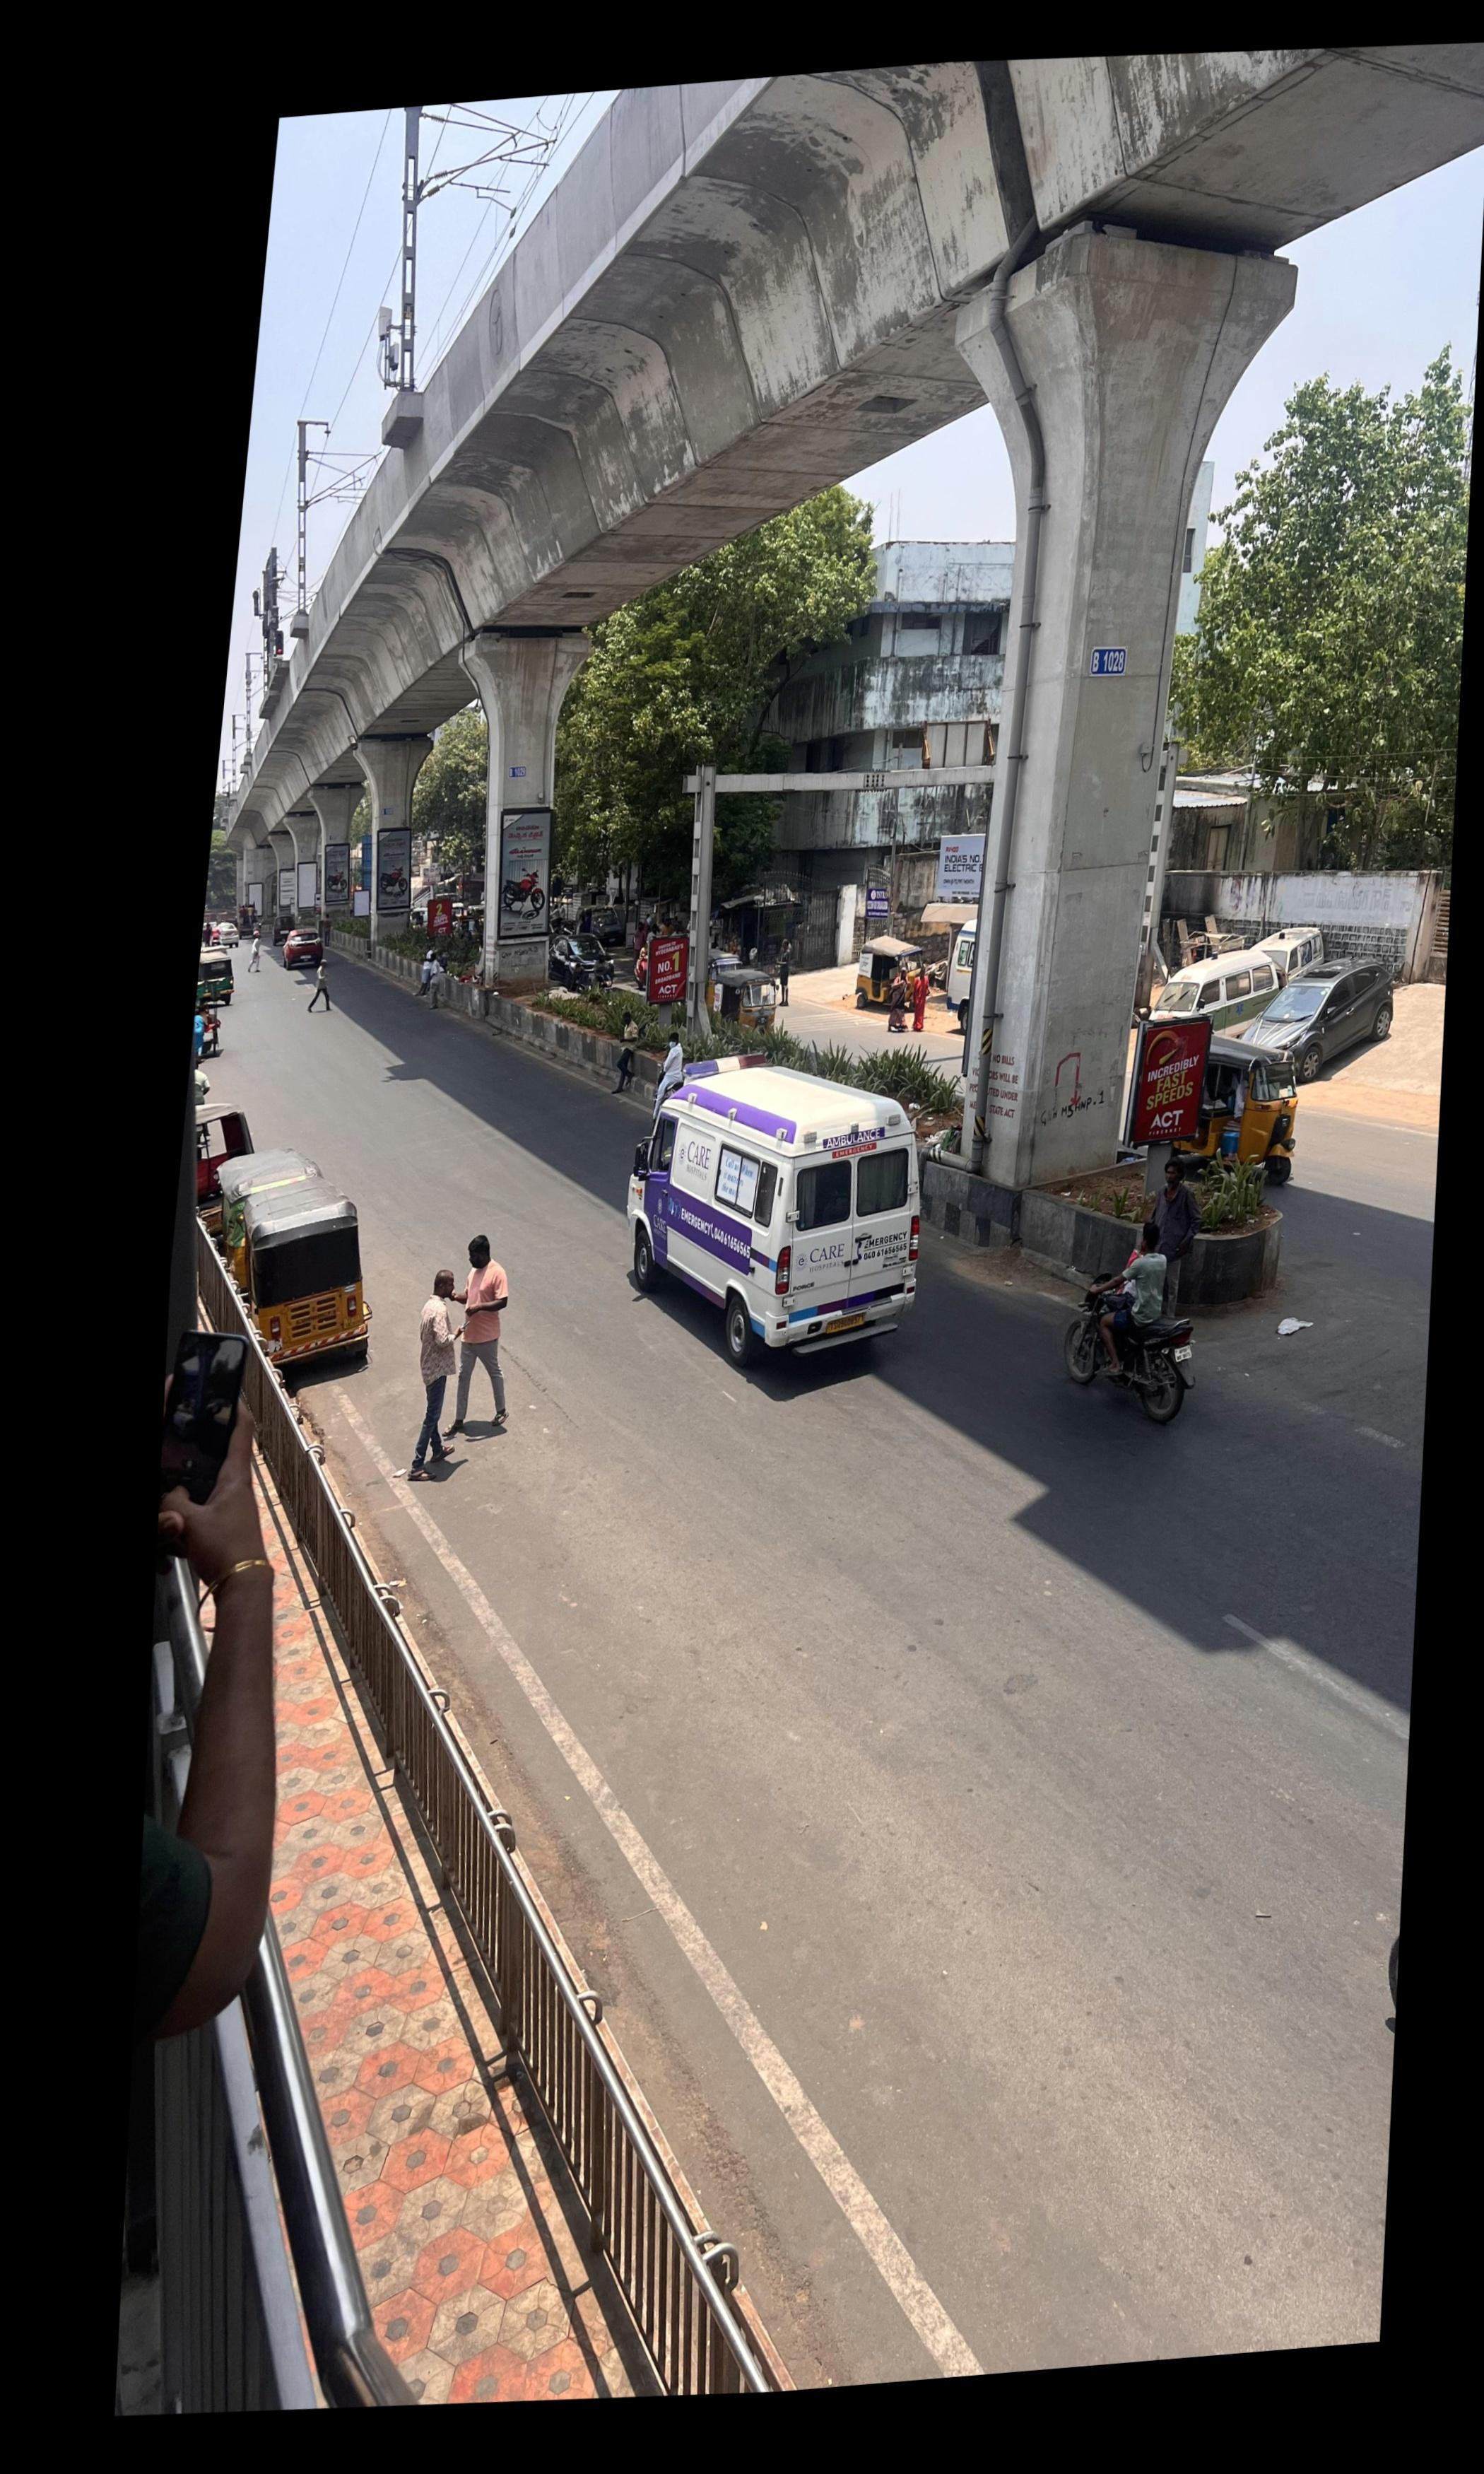ambulance: (625, 1032, 929, 1371)
